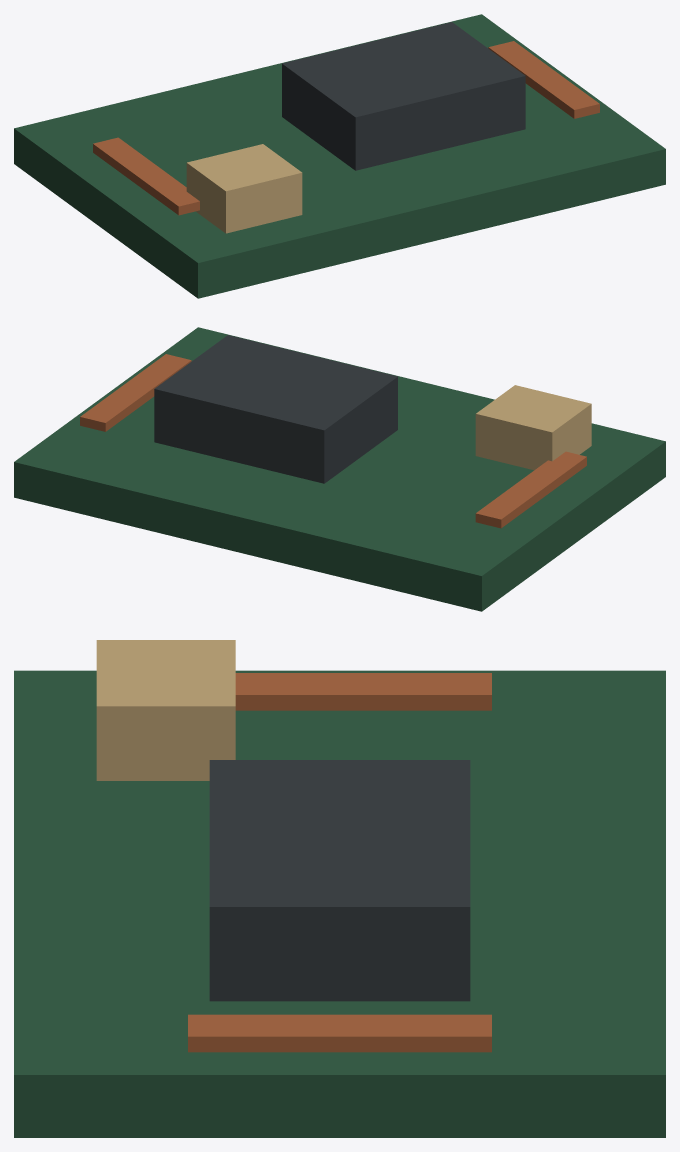
The model's file is circuit_board.glb.
3 renders of one model, top to bottom at view 1: azimuth 30°, elevation 25°; view 2: azimuth 150°, elevation 25°; view 3: azimuth 270°, elevation 25°, orthographic. The views are drawn at different scales.
Visible parts, largest first — view 1: circuit_board; view 2: circuit_board; view 3: circuit_board.
Part boxes in pixels (left/top/right/bottom): circuit_board: left=14, top=14, right=665, bottom=298; circuit_board: left=14, top=327, right=665, bottom=611; circuit_board: left=14, top=640, right=665, bottom=1137.
Bounding box in the file's own units: 0.11 × 0.02 × 0.075.
